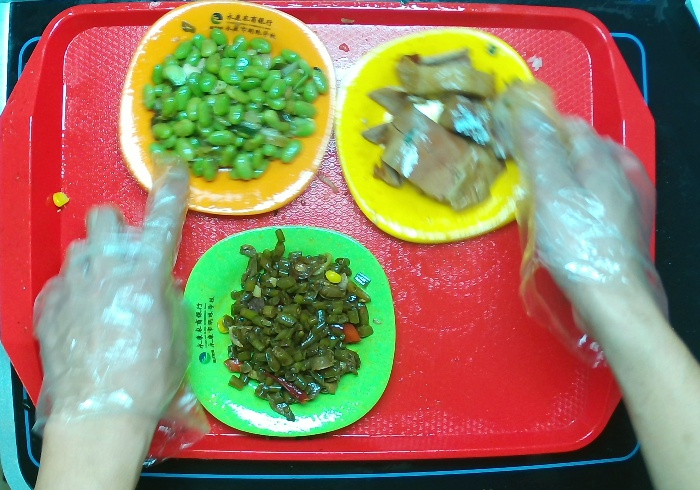YKMZ-Huang_Se_Fang_Die: (334, 27, 541, 246)
YKMZ-Ju_Se_Fang_Die: (116, 1, 338, 216)
YKMZ-Lv_Se_Fang_Die: (182, 223, 398, 438)
